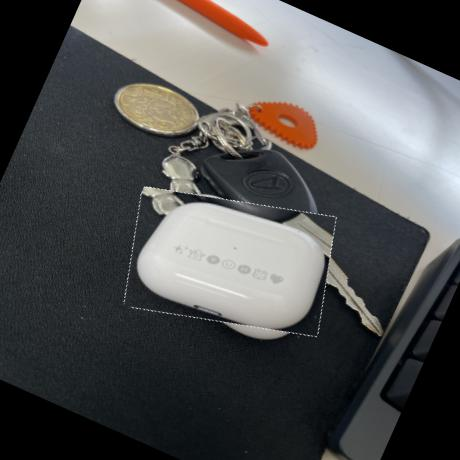airpod3: (105, 152, 354, 370)
